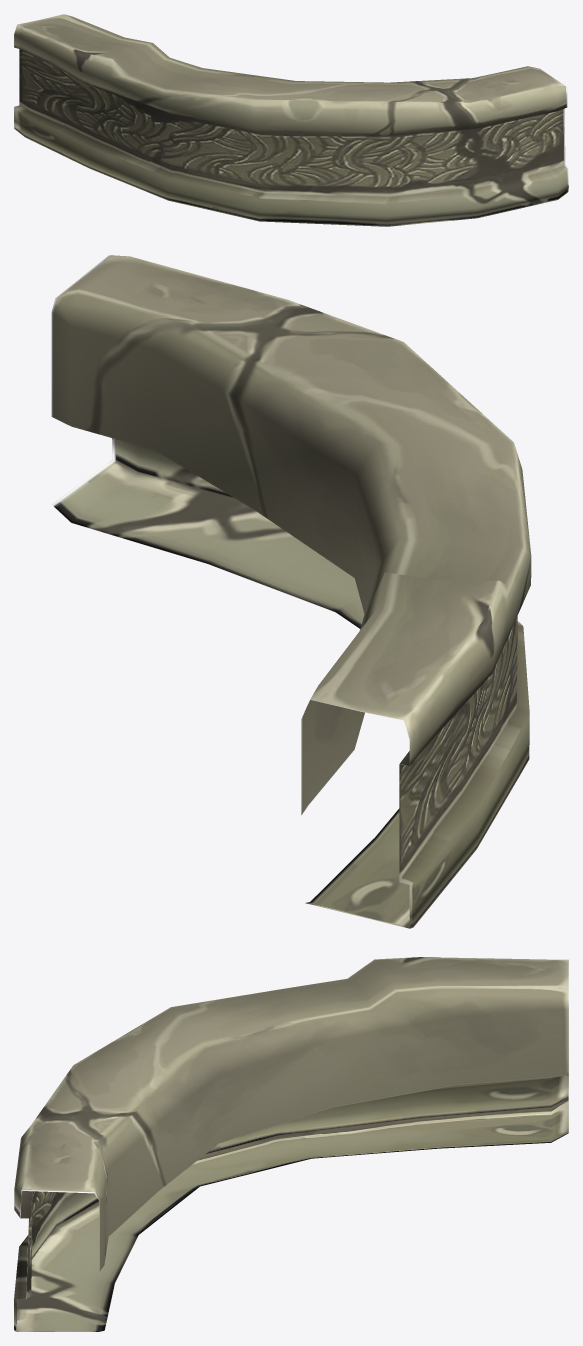
Rendered from walltop_convex.fbx.
The picture shows the model from 3 angles, top to bottom: view 1: azimuth 30°, elevation 25°; view 2: azimuth 150°, elevation 25°; view 3: azimuth 270°, elevation 25°; orthographic projection. The views are drawn at different scales.
Parts seen in each view (by area): view 1: polySurface108; view 2: polySurface108; view 3: polySurface108.
Boxes of the visible parts, bbox=[...] form: polySurface108: bbox=[14, 14, 568, 226]; polySurface108: bbox=[51, 255, 531, 928]; polySurface108: bbox=[14, 957, 568, 1331].
Size of the model in its own units: 2.37 by 0.7755 by 2.38.
